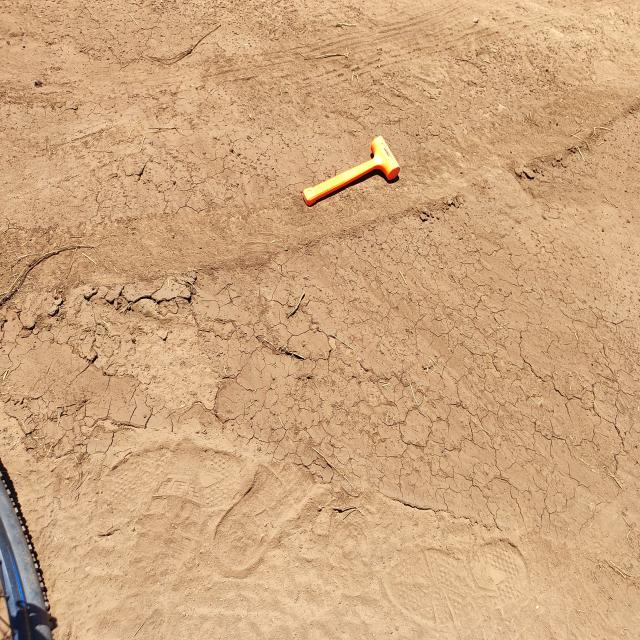Orange_hammer: (301, 134, 400, 208)
